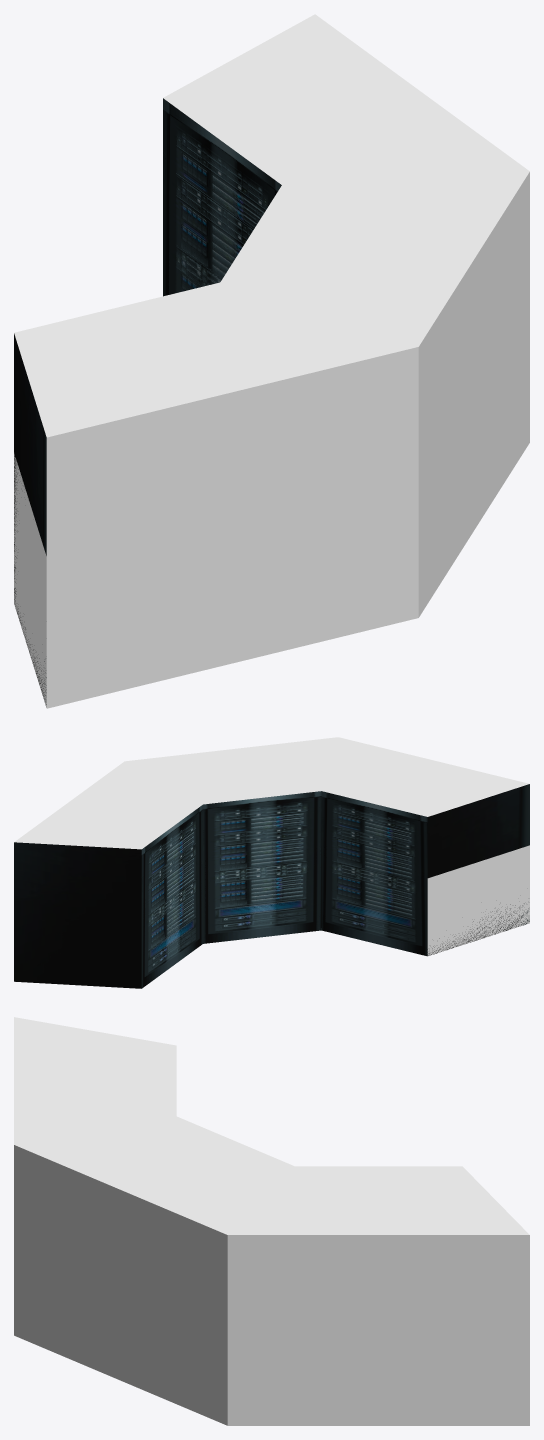
Rendered from Multiple Servers.fbx.
The picture shows the model from 3 angles, top to bottom: view 1: azimuth 30°, elevation 25°; view 2: azimuth 150°, elevation 25°; view 3: azimuth 270°, elevation 25°; orthographic projection. The views are drawn at different scales.
Visible parts, largest first — view 1: Circle.030; view 2: Circle.030; view 3: Circle.030.
Boxes of the visible parts, x1,y1,x2,y2 form: Circle.030: (14,14,529,708); Circle.030: (14,737,529,988); Circle.030: (14,1017,529,1425).
Bounding box in the file's own units: 49.73 × 20.29 × 49.73.
